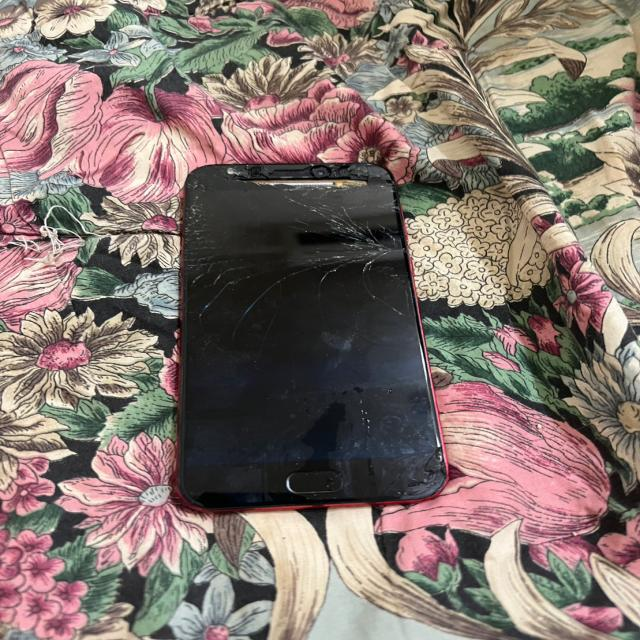Smartphone: (177, 162, 448, 513)
